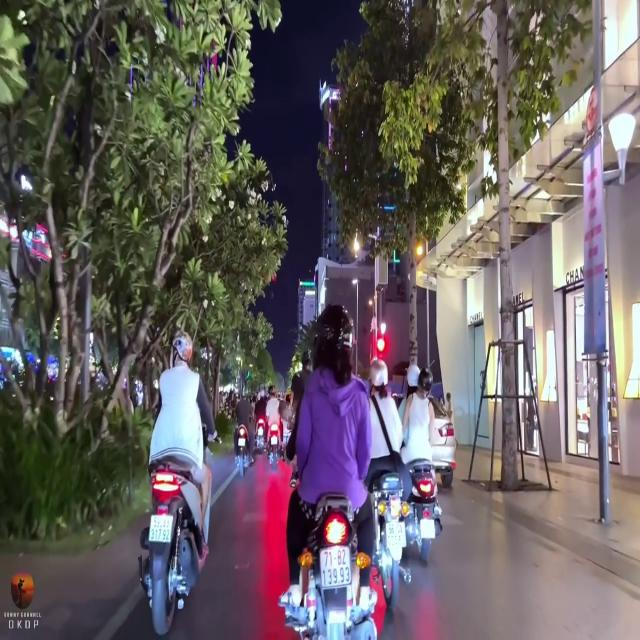bien_trang: (317, 544, 354, 590)
